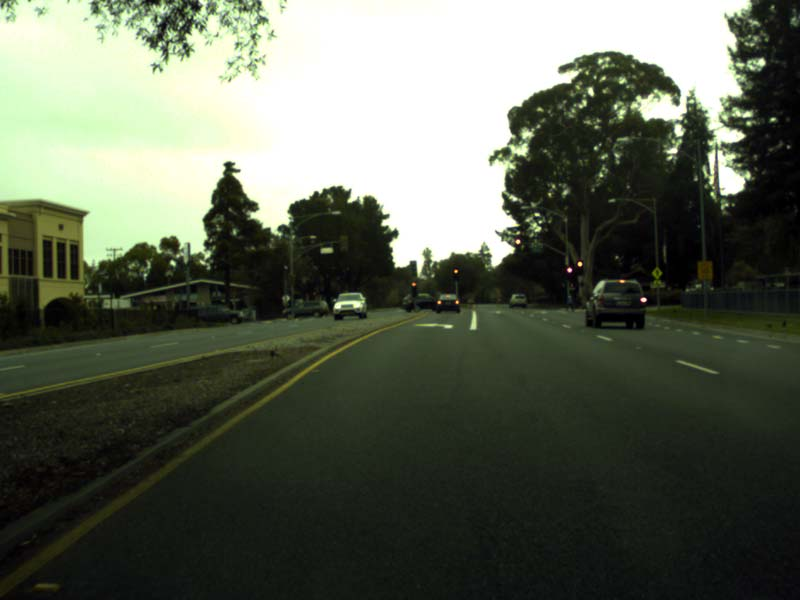Red: (576, 259, 583, 275), (565, 266, 572, 280), (411, 280, 417, 296), (515, 237, 520, 253), (453, 268, 459, 280)
